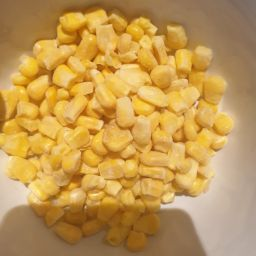Corn Kernel: (29, 13, 148, 224), (129, 29, 251, 218), (24, 5, 236, 108), (3, 55, 104, 256), (7, 150, 189, 247)
